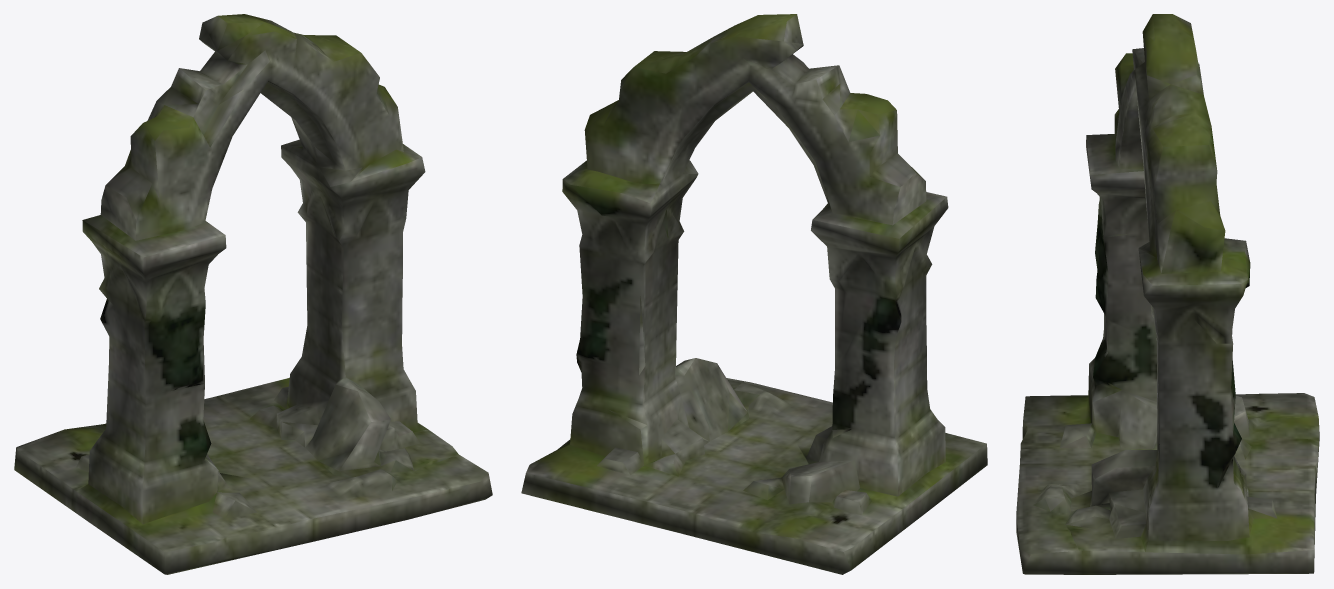
Rendered from ruins_arch_lod1.glb.
3 renders of one model, left to right at view 1: azimuth 30°, elevation 25°; view 2: azimuth 150°, elevation 25°; view 3: azimuth 270°, elevation 25°, orthographic.
Visible parts, largest first — view 1: ruins_arch_lod1; view 2: ruins_arch_lod1; view 3: ruins_arch_lod1.
Boxes of the visible parts, x1,y1,x2,y2 form: ruins_arch_lod1: [14, 14, 492, 574]; ruins_arch_lod1: [521, 14, 987, 574]; ruins_arch_lod1: [1016, 14, 1319, 574].
Bounding box in the file's own units: 3.29 × 4.49 × 2.64.
1 material, 1 textured.
